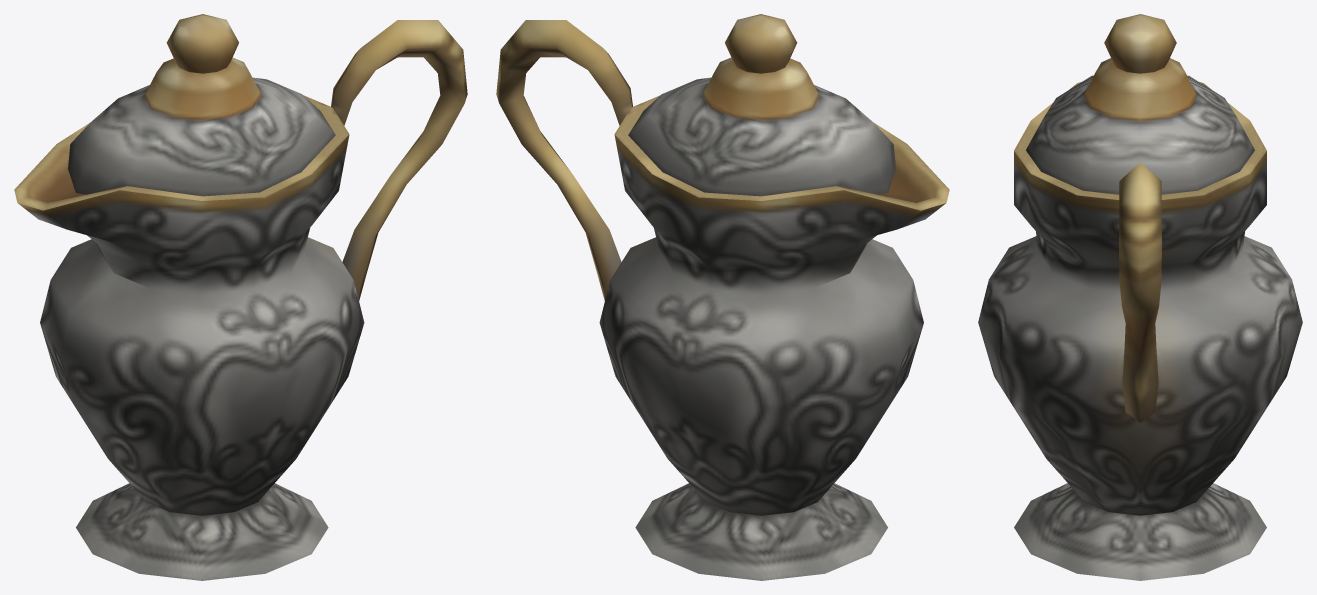
Rendered from luxury_carafe_02.fbx.
3 renders of one model, left to right at view 1: azimuth 30°, elevation 25°; view 2: azimuth 150°, elevation 25°; view 3: azimuth 270°, elevation 25°, orthographic.
Parts seen in each view (by area): view 1: luxury_carafe_02; view 2: luxury_carafe_02; view 3: luxury_carafe_02.
Boxes of the visible parts, box(x1,y1,x2,y2) form: luxury_carafe_02: box(14, 14, 467, 580); luxury_carafe_02: box(496, 14, 949, 580); luxury_carafe_02: box(978, 14, 1302, 580).
Size of the model in its own units: 39.26 by 42.59 by 24.5.
